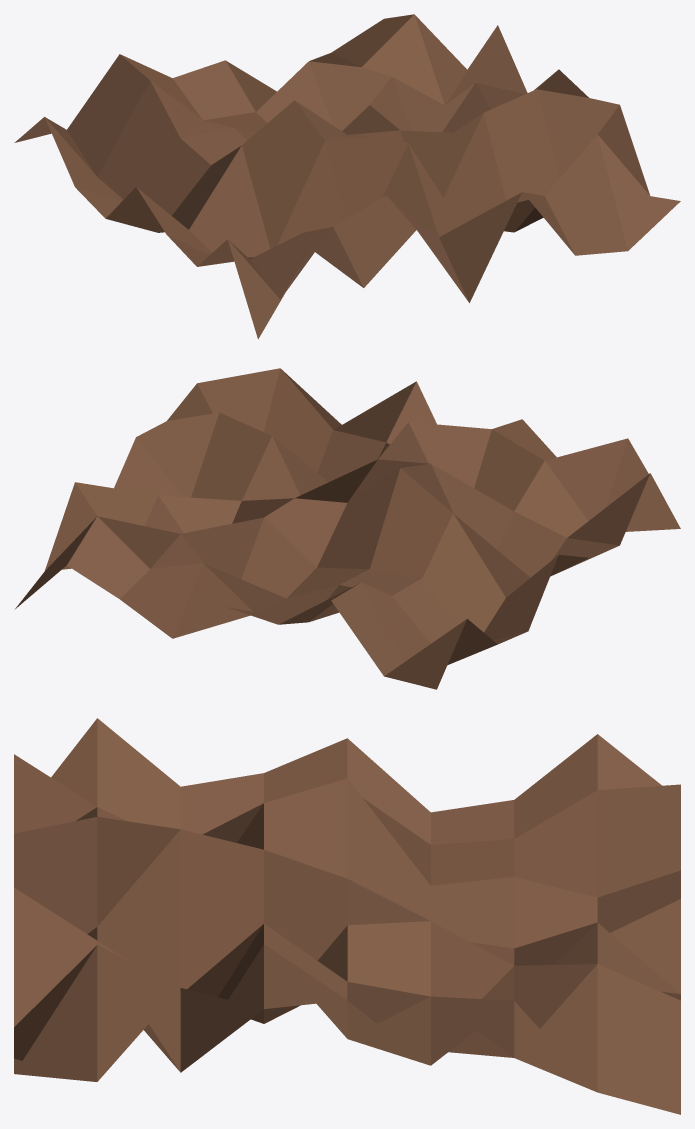
Rendered from bgMesh.fbx.
3 views of the same model, one above another, from view 1: azimuth 30°, elevation 25°; view 2: azimuth 150°, elevation 25°; view 3: azimuth 270°, elevation 25° (orthographic). The views are drawn at different scales.
Parts seen in each view (by area): view 1: BgMesh; view 2: BgMesh; view 3: BgMesh.
Part boxes in pixels (left/top/right/bottom): BgMesh: left=14, top=14, right=680, bottom=339; BgMesh: left=14, top=368, right=680, bottom=689; BgMesh: left=14, top=718, right=680, bottom=1114.
Bounding box in the file's own units: 200 × 58.47 × 200.
